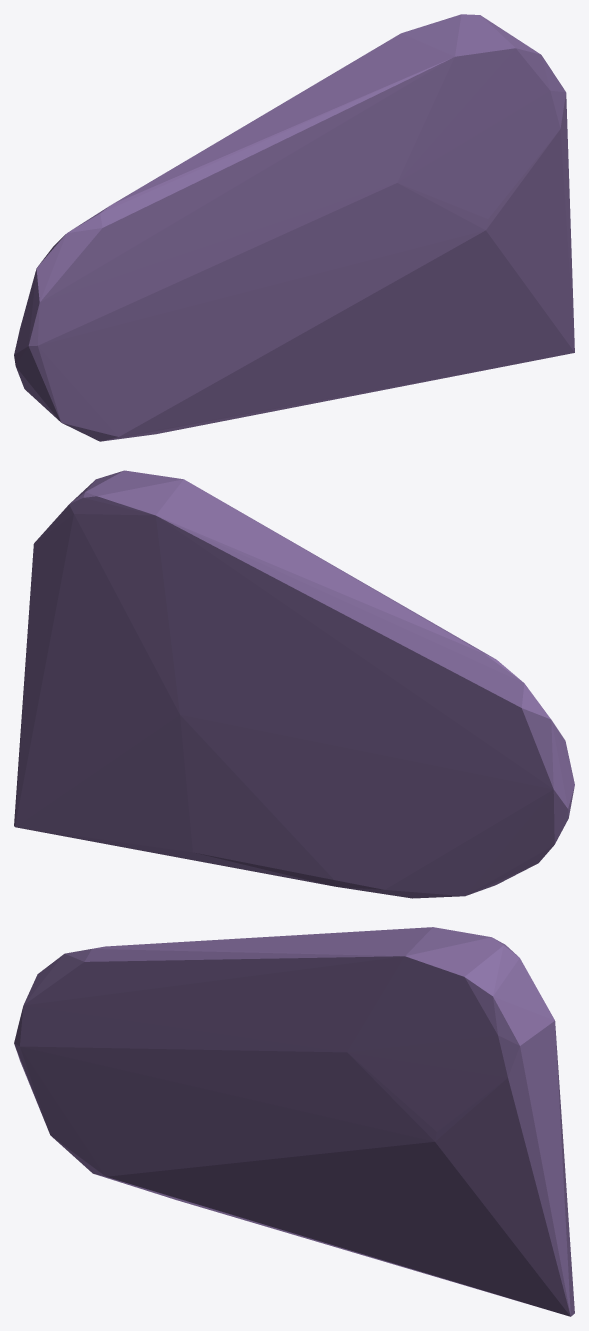
Rendered from serviceTool_gauge_tirePressureDial_a01.glb.
The picture shows the model from 3 angles, top to bottom: view 1: azimuth 30°, elevation 25°; view 2: azimuth 150°, elevation 25°; view 3: azimuth 330°, elevation 25°; orthographic projection.
Visible parts, largest first — view 1: geometry_0; view 2: geometry_0; view 3: geometry_0.
Part boxes in pixels (left/top/right/bottom): geometry_0: left=14, top=14, right=574, bottom=441; geometry_0: left=14, top=470, right=574, bottom=898; geometry_0: left=14, top=927, right=574, bottom=1316.
Bounding box in the file's own units: 0.4739 × 0.2908 × 0.063.
